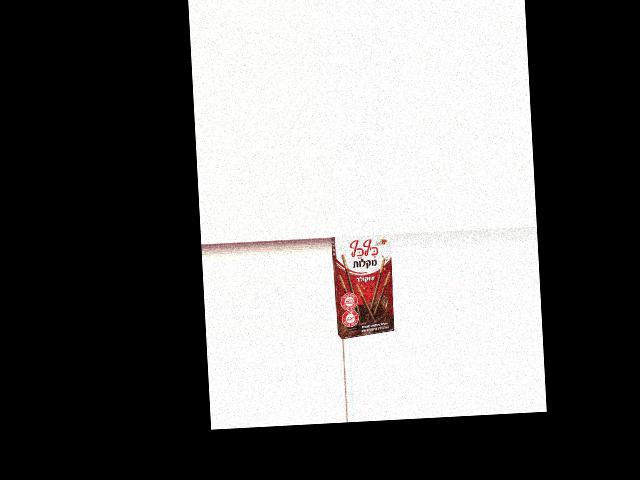chocolate: (332, 234, 396, 332)
